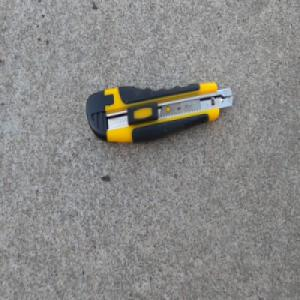Cutter: (85, 81, 233, 144)
